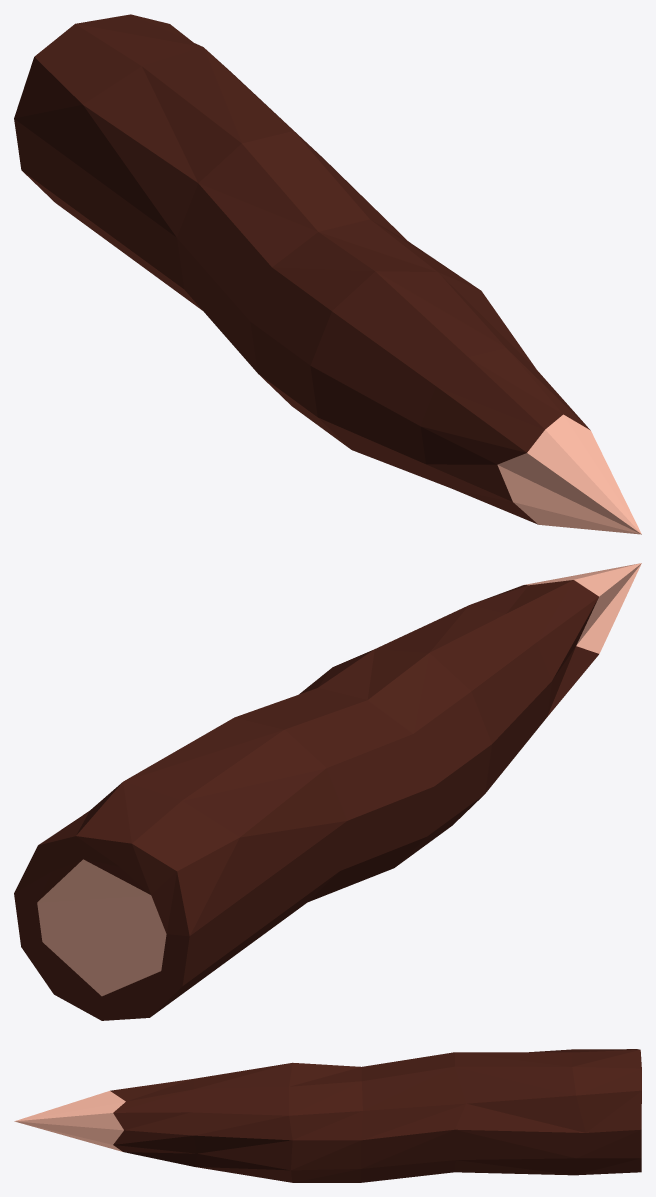
Rendered from stakeMesh.fbx.
3 views of the same model, one above another, from view 1: azimuth 30°, elevation 25°; view 2: azimuth 150°, elevation 25°; view 3: azimuth 270°, elevation 25° (orthographic). The views are drawn at different scales.
Visible parts, largest first — view 1: Cylinder; view 2: Cylinder; view 3: Cylinder.
Part boxes in pixels (x1,y1,x2,y2): Cylinder: (14, 14, 641, 534); Cylinder: (14, 563, 641, 1020); Cylinder: (14, 1049, 641, 1182).
Size of the model in its own units: 207 by 225 by 1035.
